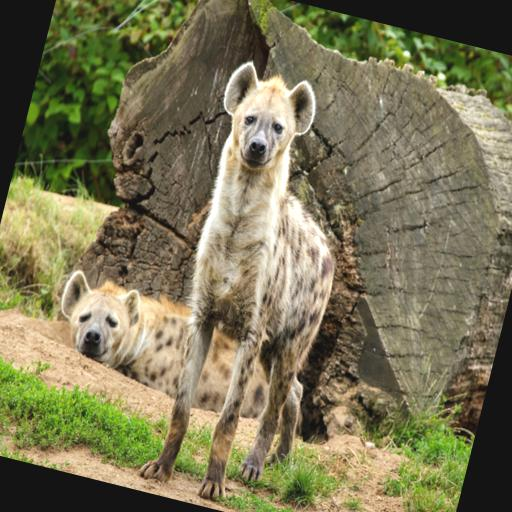hyenas: (113, 40, 423, 512), (14, 218, 166, 390)
